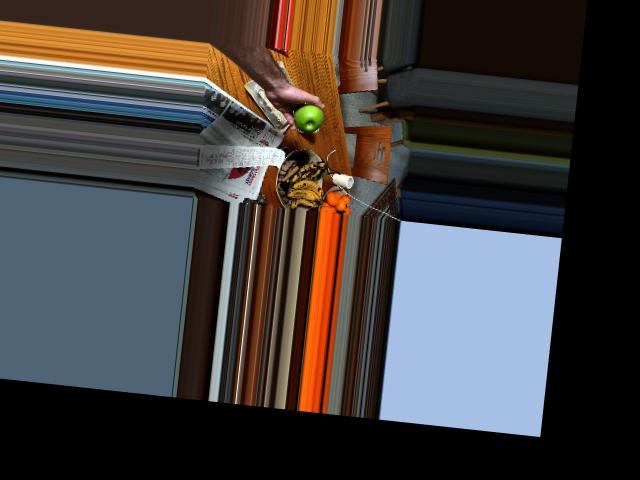apple: (291, 103, 325, 132)
